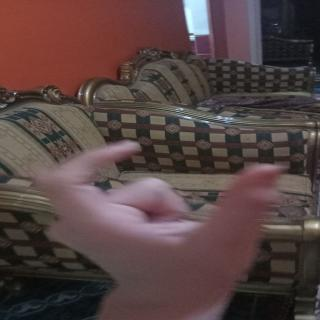NOON: (0, 133, 296, 304)
